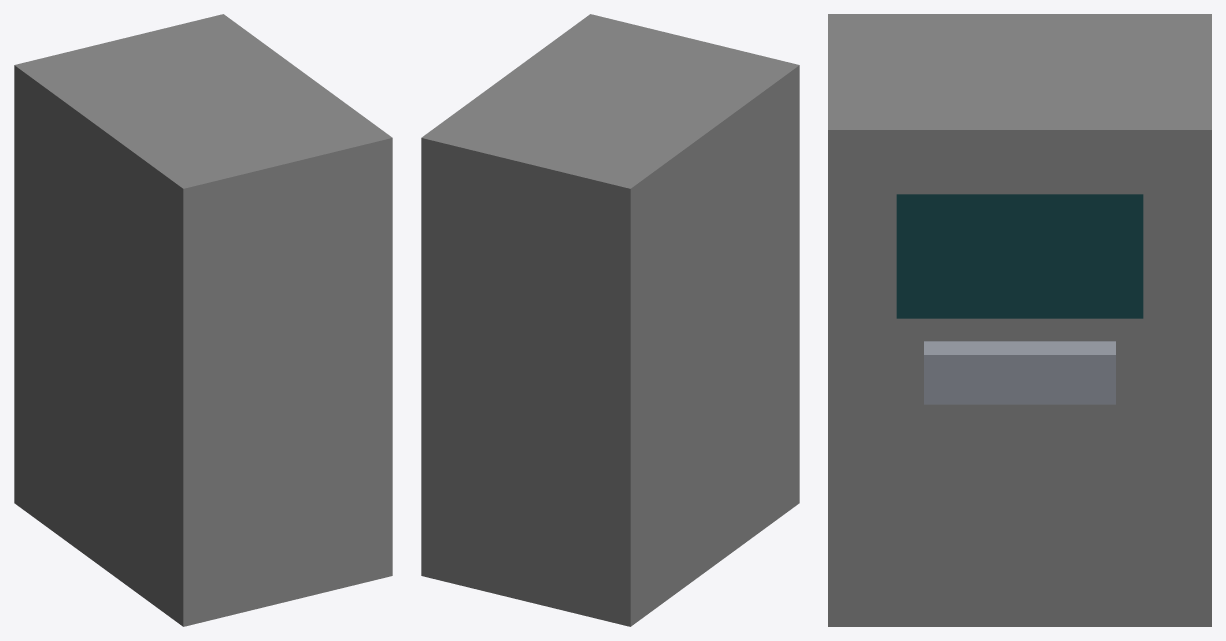
The model's file is atm.obj.
3 renders of one model, left to right at view 1: azimuth 30°, elevation 25°; view 2: azimuth 150°, elevation 25°; view 3: azimuth 270°, elevation 25°, orthographic. The views are drawn at different scales.
Size of the model in its own units: 1.12 by 2 by 1.4.
